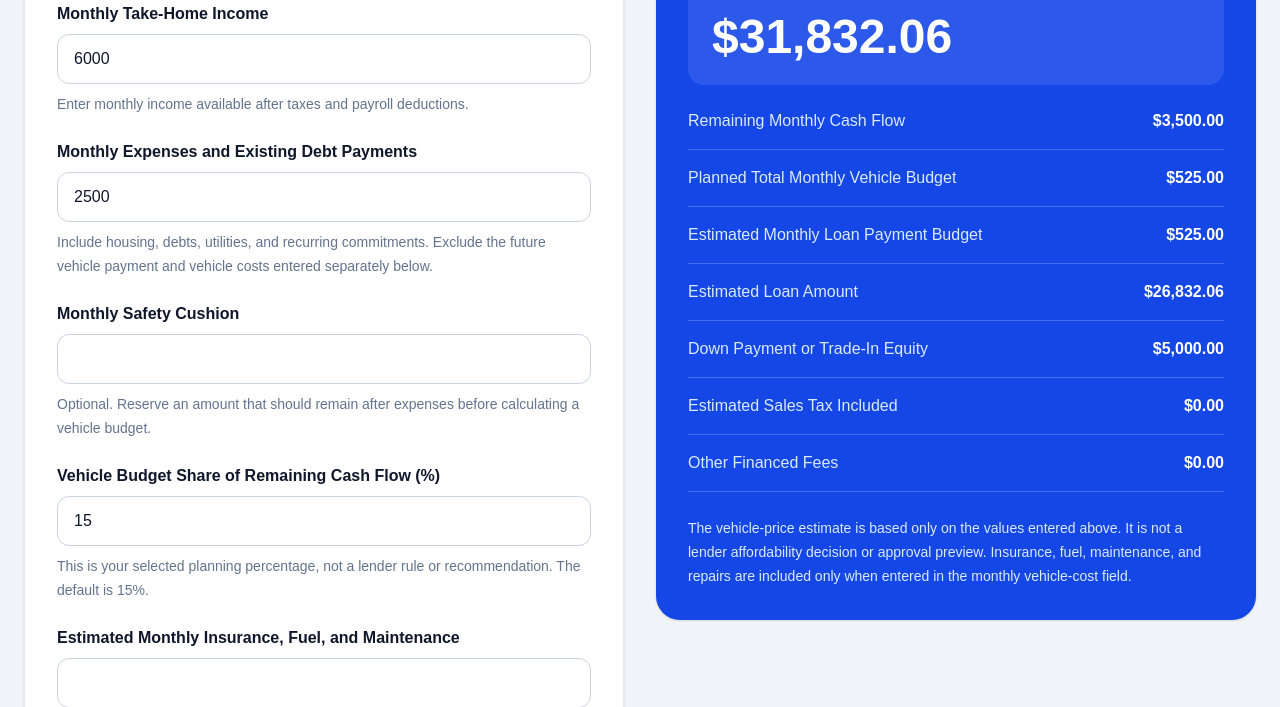
Scenario: CarAffordabilityCalculator › rejects a negative monthly safety cushion
The width and height of the screenshot is (1280, 707).
(page scrolled)
Type "-1" into the number field labelled "Monthly Safety Cushion" at (324, 358), box [57,334,591,384]
(page scrolled)
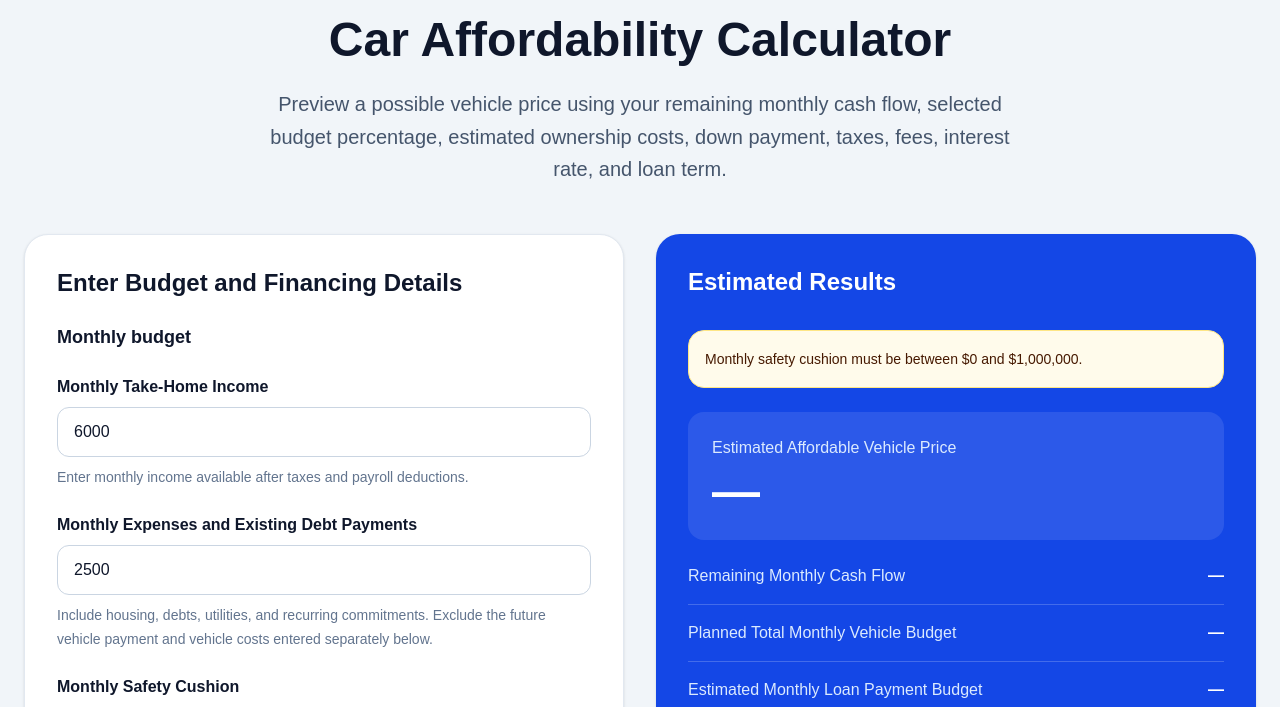
Expected: the text "Monthly safety cushion must be between $0 and $1,000,000." is shown, [688,330,1224,388]
